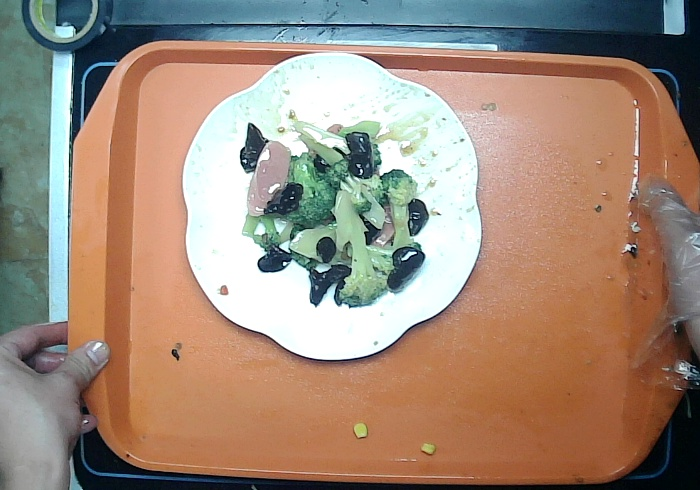HZYJPL-Bai_Se_Hua_Duo_Wan: (179, 50, 484, 365)
